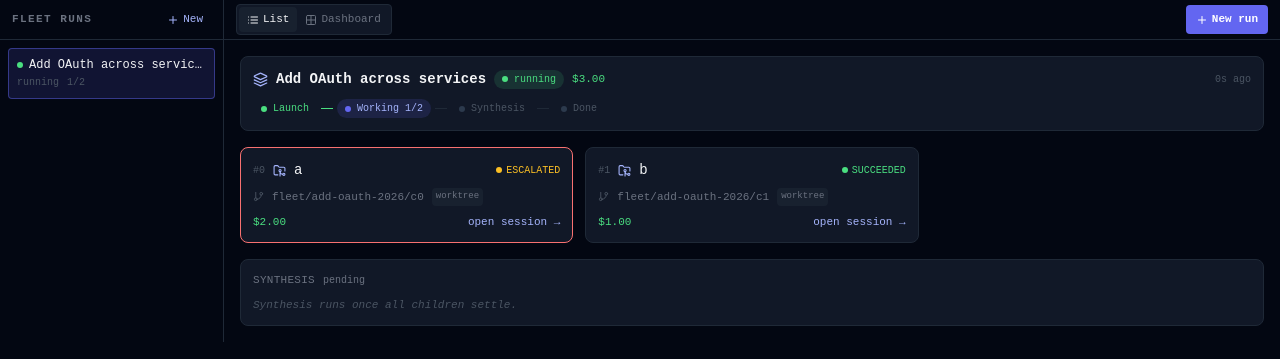
Test: FleetTab › switches to dashboard mode, persists it, and preserves the selected run
This screenshot has width=1280, height=359.
What coordinates should you click on to do the following:
click the button "Dashboard"
I would click on:
 (343, 20)
Its box is [297,7,389,32].
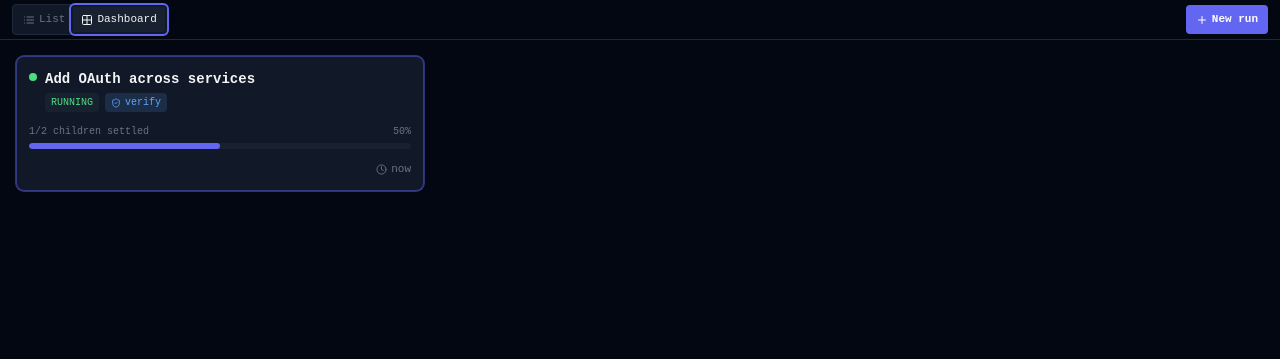
Expected: the button "Add OAuth across services" shows "1/2 children settled", [16,56,424,190]
Expected: the button "Add OAuth across services" shows "verify", [16,56,424,190]
